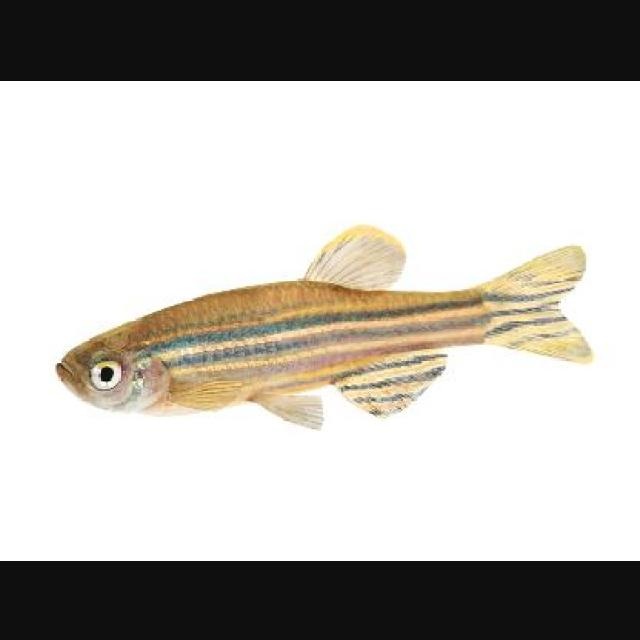ZebraFish: (60, 226, 595, 429)
